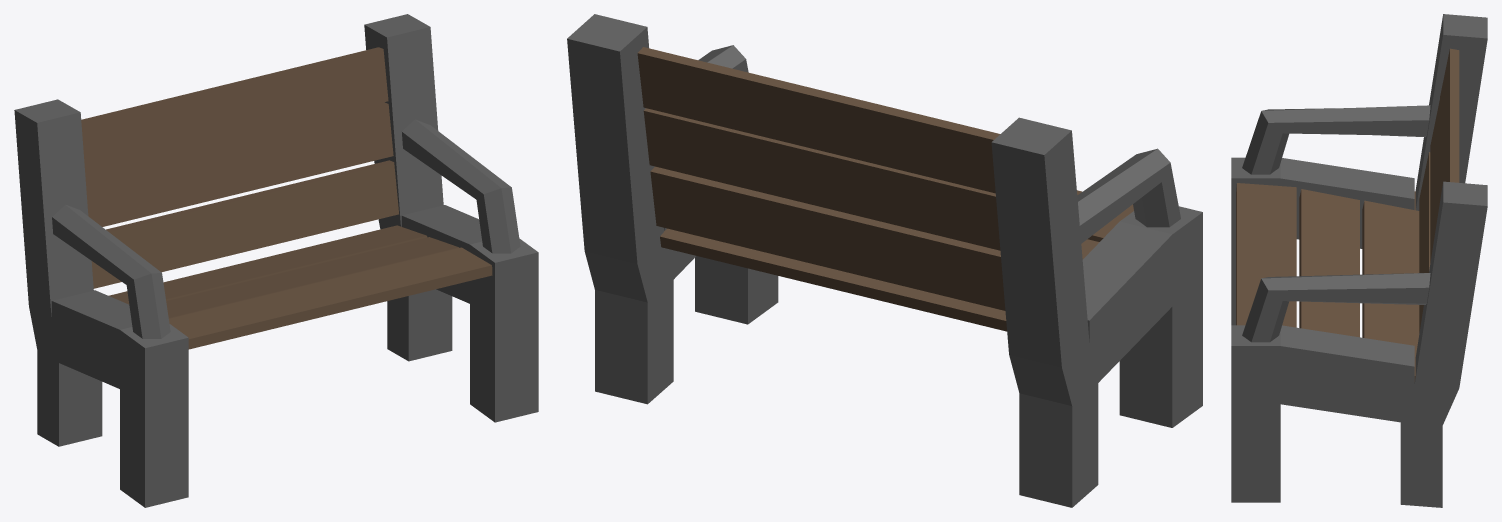
Rendered from Bench_02.fbx.
3 renders of one model, left to right at view 1: azimuth 30°, elevation 25°; view 2: azimuth 150°, elevation 25°; view 3: azimuth 270°, elevation 25°, orthographic. The views are drawn at different scales.
Visible parts, largest first — view 1: Bench_02; view 2: Bench_02; view 3: Bench_02.
Boxes of the visible parts, left/top/right/bottom form: Bench_02: left=14, top=14, right=538, bottom=507; Bench_02: left=567, top=14, right=1202, bottom=507; Bench_02: left=1231, top=14, right=1487, bottom=507.
Bounding box in the file's own units: 1680 × 1270 × 967.
